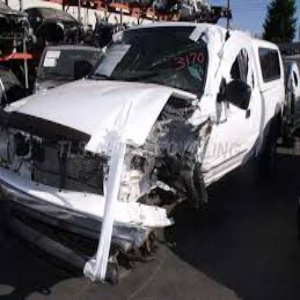bonnet: (60, 81, 183, 147)
bumper: (77, 195, 187, 258)
